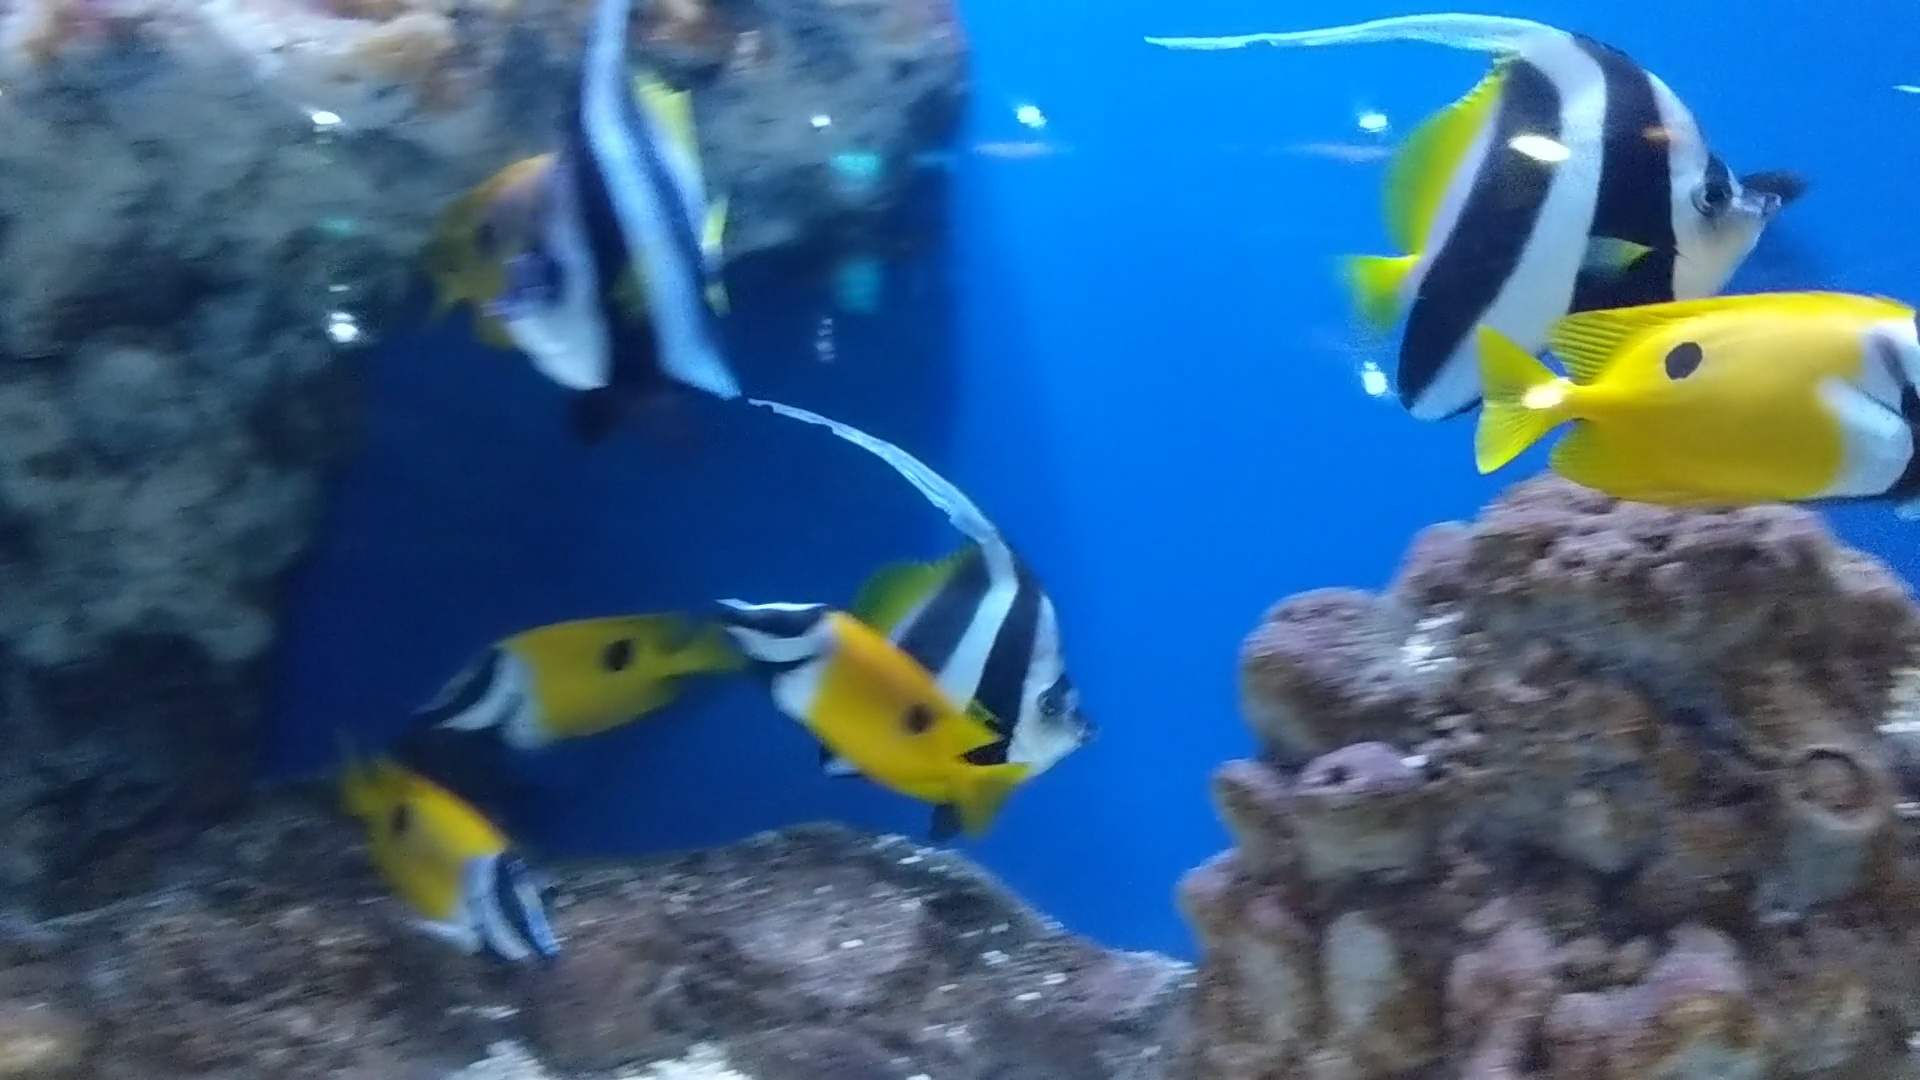moorfish: (1149, 7, 1768, 382), (765, 398, 1106, 800), (506, 54, 769, 410)
rabbitfish: (1451, 290, 1919, 506), (715, 596, 998, 820), (332, 727, 556, 982), (394, 615, 731, 735)
